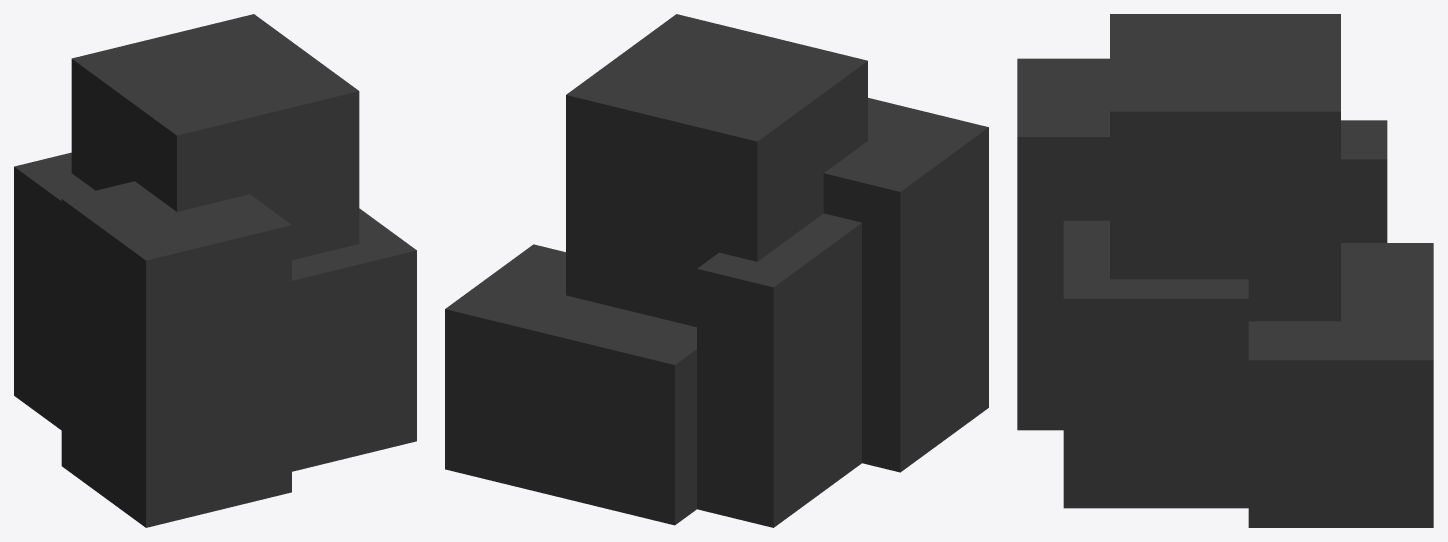
Rendered from Rock 04.obj.
3 views of the same model, side by side, from view 1: azimuth 30°, elevation 25°; view 2: azimuth 150°, elevation 25°; view 3: azimuth 270°, elevation 25° (orthographic). The views are drawn at different scales.
Size of the model in its own units: 0.9 by 0.9 by 0.9.
1 material, 1 textured.
